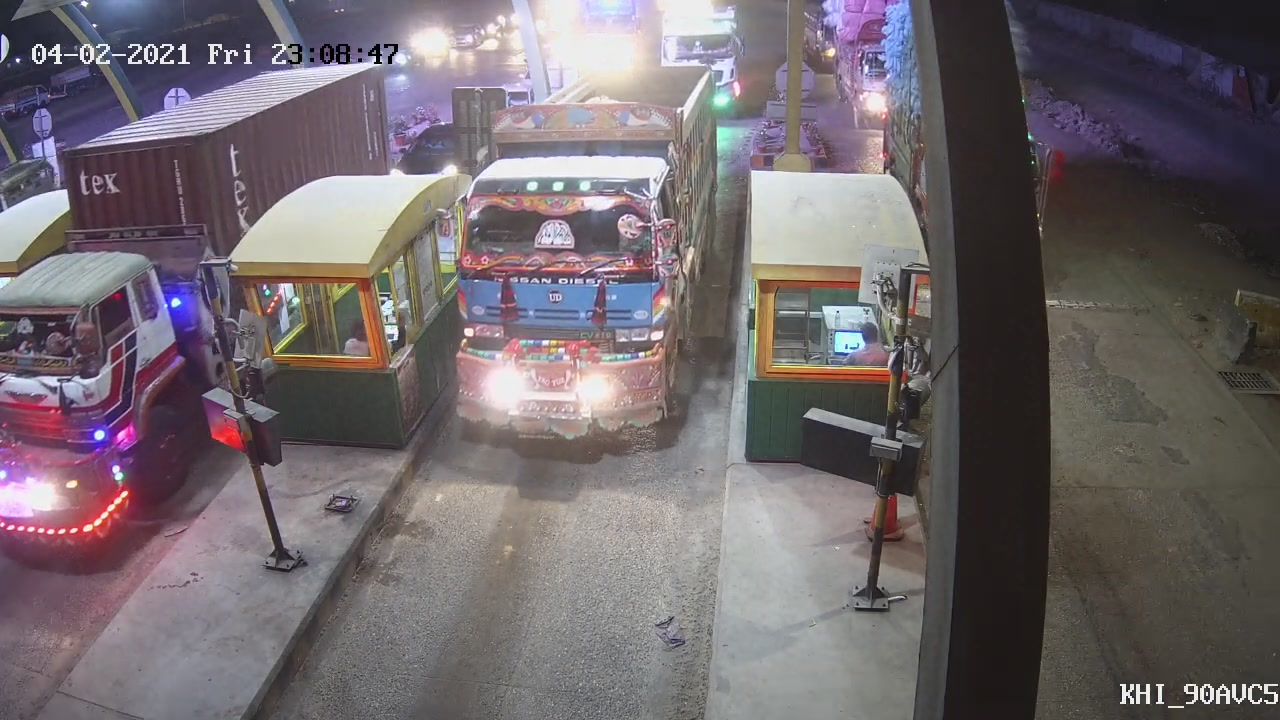F5: (434, 65, 725, 449)
